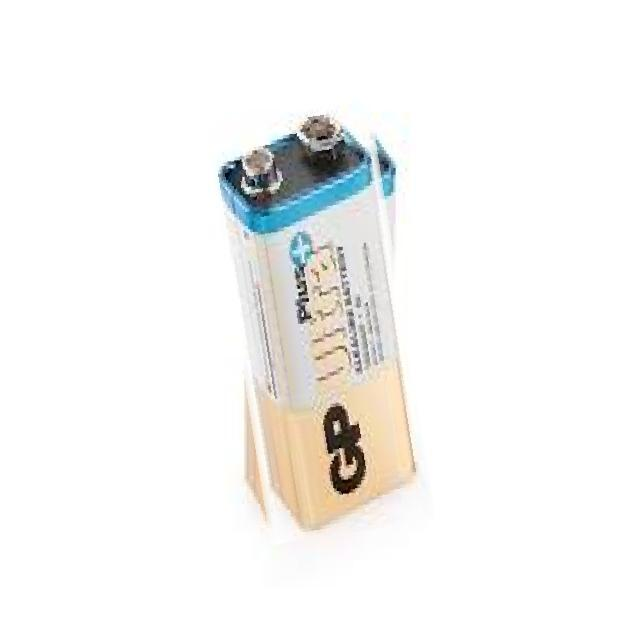Battery: (212, 103, 428, 542)
